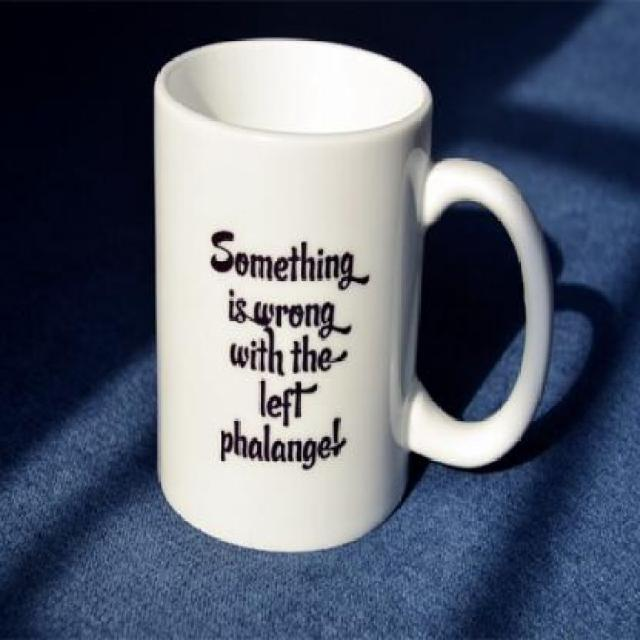taza: (134, 30, 562, 561)
